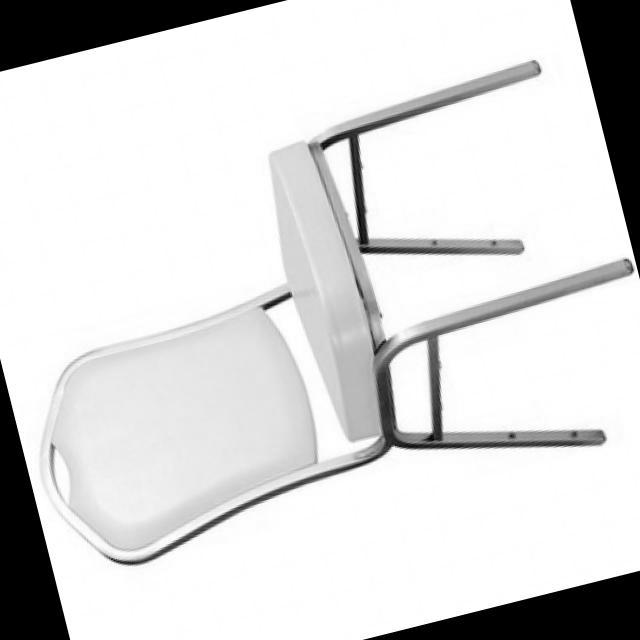chair: (0, 42, 640, 578)
